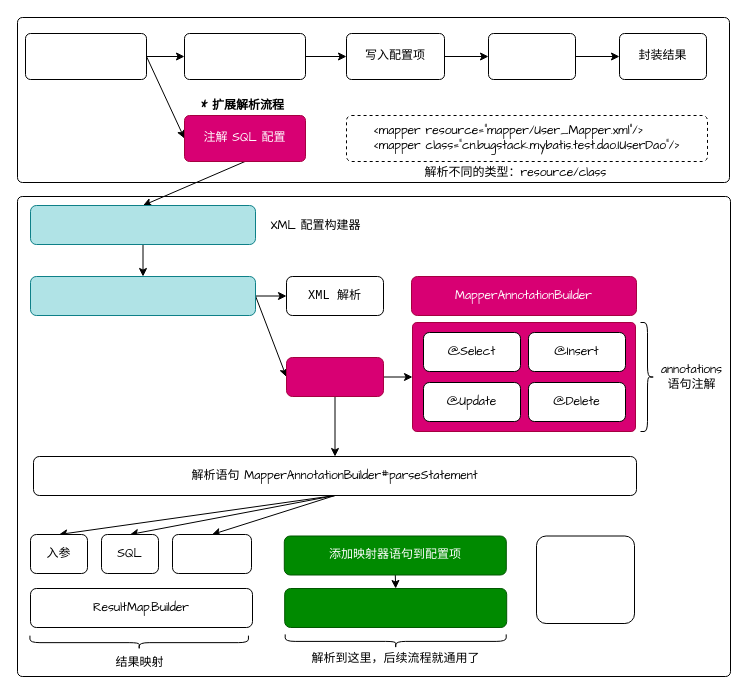
Image size: 748x694. Some labels were removed from this diagram. The centre of each missing label's shape, as x and y in pixels:
Mapper XML: point 245,56
SQL 执行: point 585,579
XMLConfigBuilder: point 143,224
XMLConfigBuilder#mapperElement: point 143,296
加载&解析XML: point 85,56
执行 SQL: point 532,56
注解解析: point 335,376
调动助手添加映射器语句: point 395,608
返回结果: point 212,554
